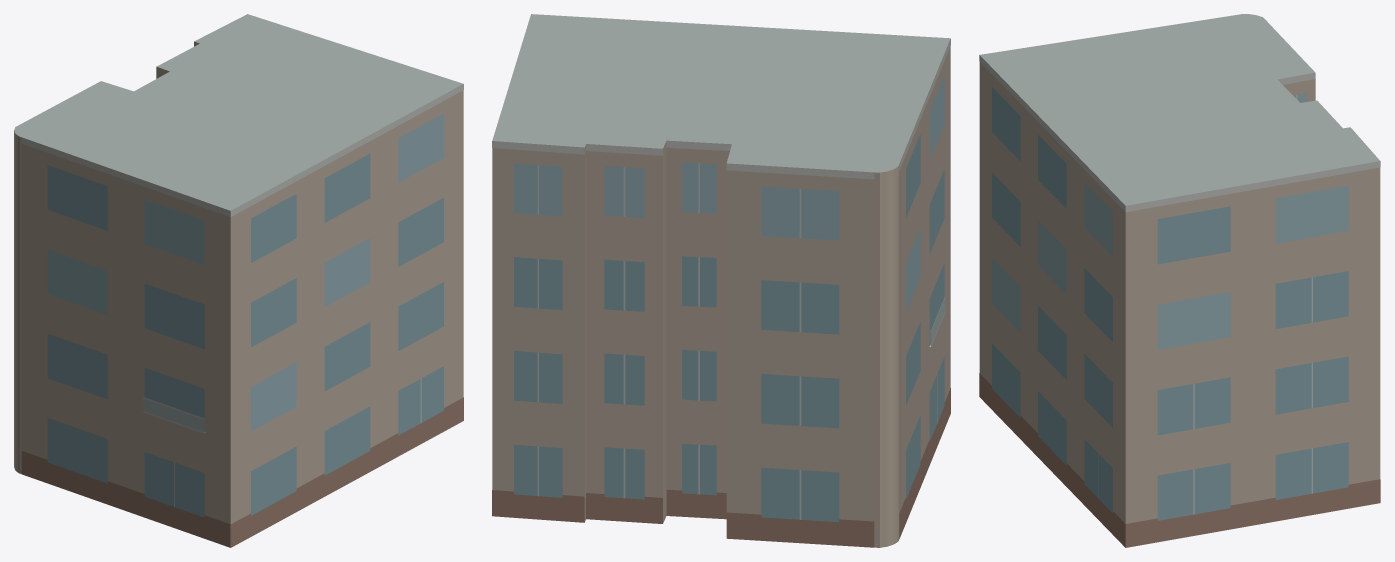
Rendered from survey-upis-32699791.glb.
3 views of the same model, side by side, from view 1: azimuth 30°, elevation 25°; view 2: azimuth 150°, elevation 25°; view 3: azimuth 270°, elevation 25° (orthographic). The views are drawn at different scales.
Parts seen in each view (by area): view 1: survey-upis-32699791.tmp; view 2: survey-upis-32699791.tmp; view 3: survey-upis-32699791.tmp.
Part boxes in pixels (x1,y1,x2,y2): survey-upis-32699791.tmp: (14, 14, 463, 547); survey-upis-32699791.tmp: (492, 14, 950, 547); survey-upis-32699791.tmp: (979, 14, 1380, 547).
Bounding box in the file's own units: 15.71 × 13.05 × 13.87.
